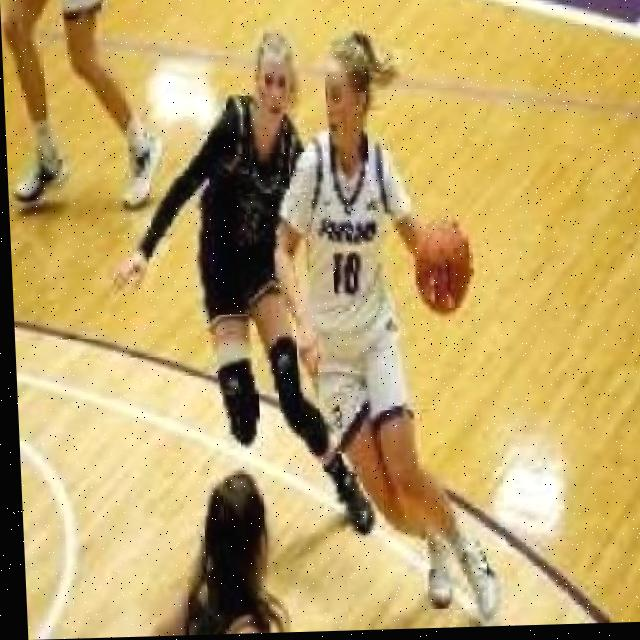basketball: (405, 216, 475, 321)
hoop: (264, 26, 508, 624), (99, 33, 379, 545)
